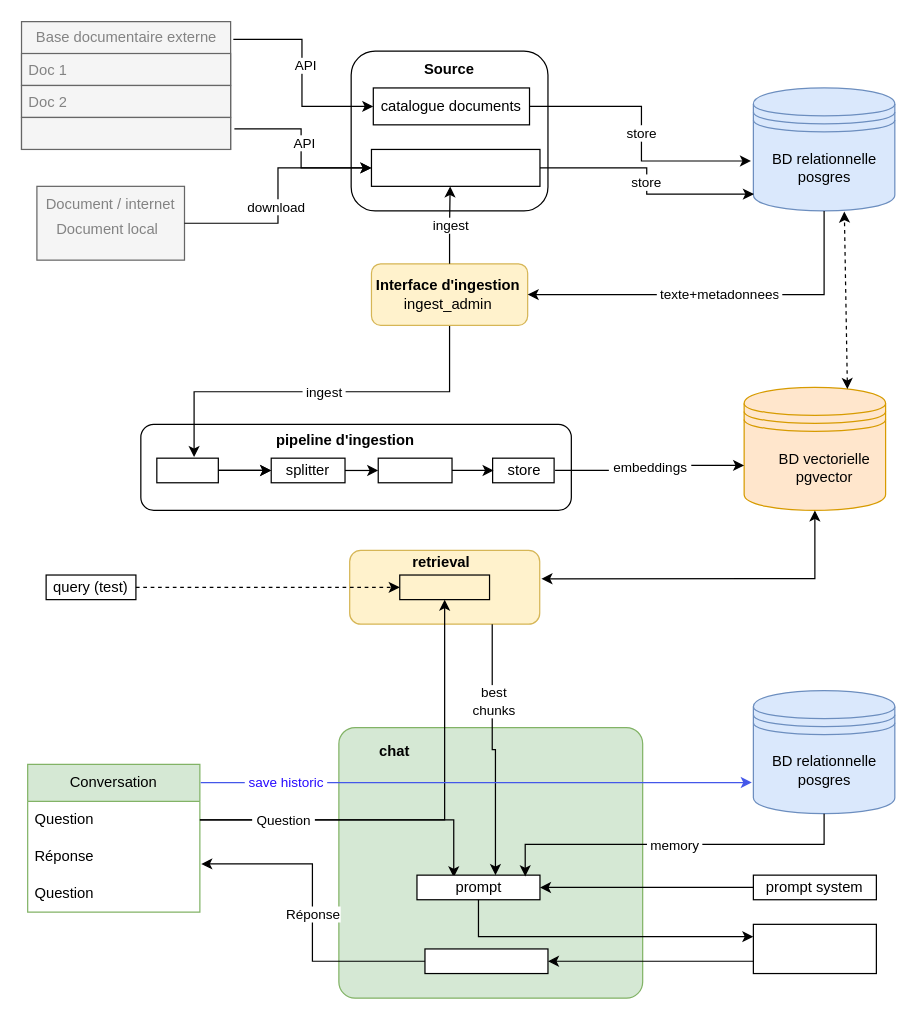
The diagram is 916 pixels wide and 1020 high, and some of its shapes have lost their labels. Here are the shapes that lost their labels. From the top down, the centre of each, then its label:
At point (125, 132): "Doc 3".
At point (455, 167): "extraction texte brut extraction metadonnées".
At point (187, 470): "loader".
At point (414, 470): "embedder".
At point (444, 587): "embed".
At point (486, 961): "guardrail".
At point (814, 948): "LLM".
